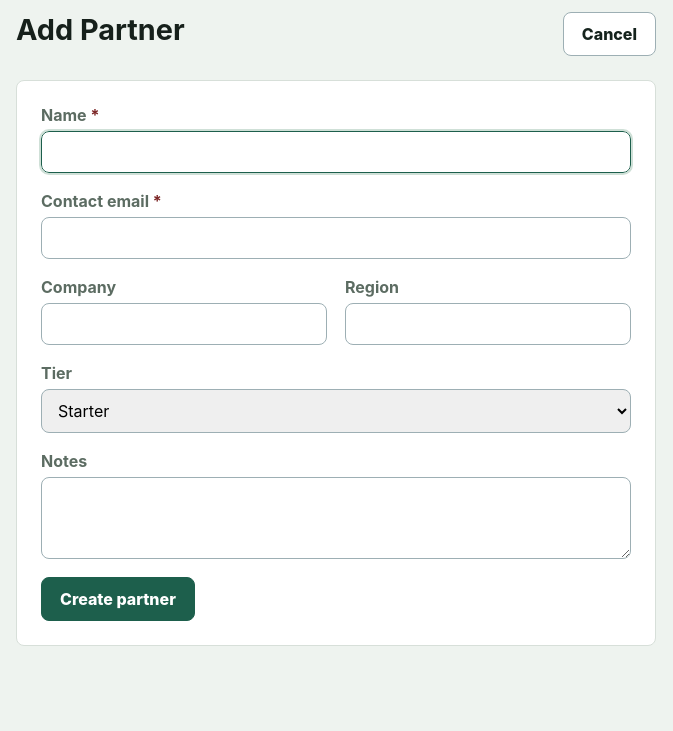
Test: AddPartner › shows a validation error and does not submit when email is missing
The width and height of the screenshot is (673, 731).
Type "Acme" into the field labelled "Name *" at (336, 152), box [41,131,631,173]
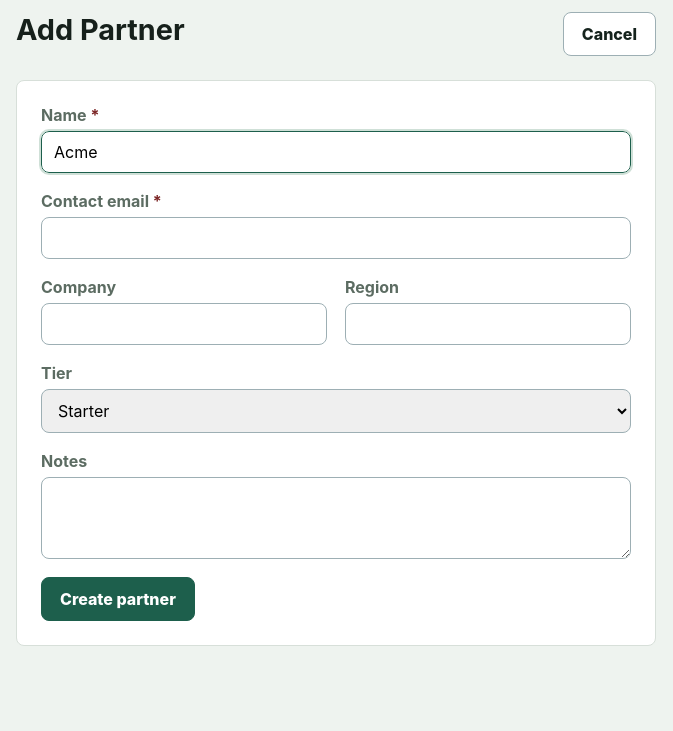
Click the button "Create partner" at (118, 599), box [41,577,195,621]
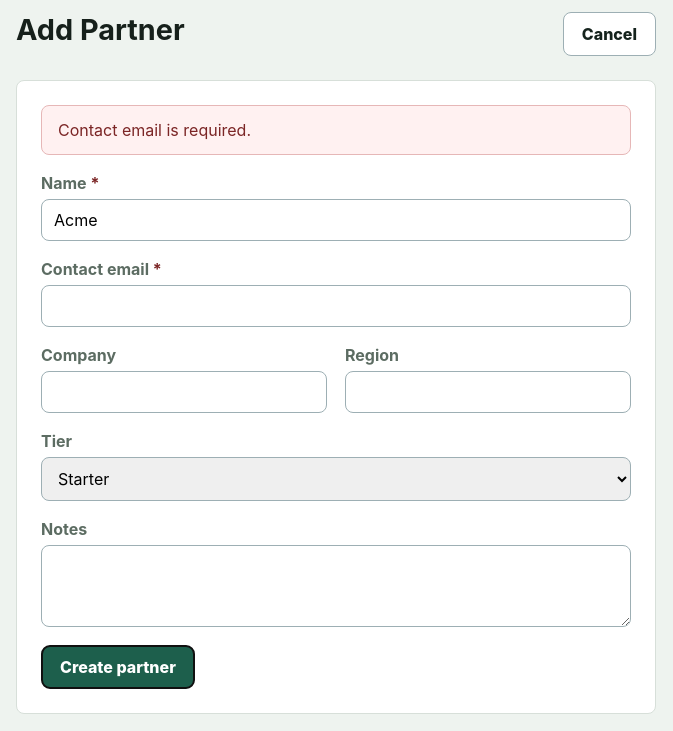
Expected: the text "Contact email is required." is shown, [41,105,631,155]
